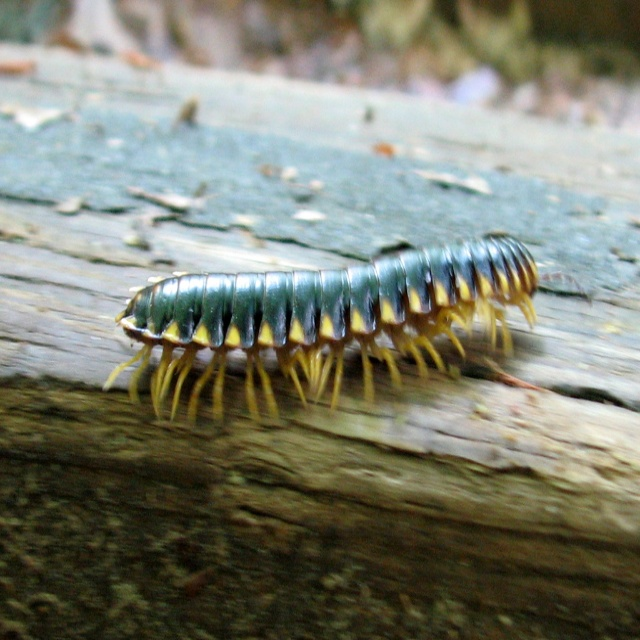Centipede: (100, 233, 538, 429)
